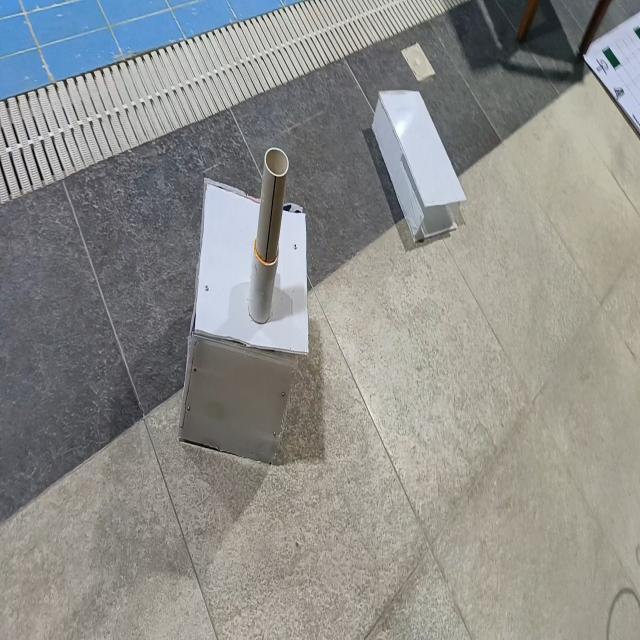Cube: (176, 176, 309, 468)
Cuboid: (371, 87, 467, 243)
